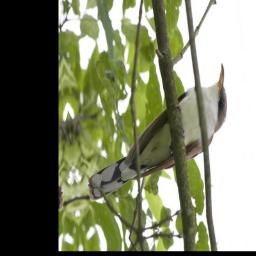Cuckoo: (80, 60, 234, 202)
